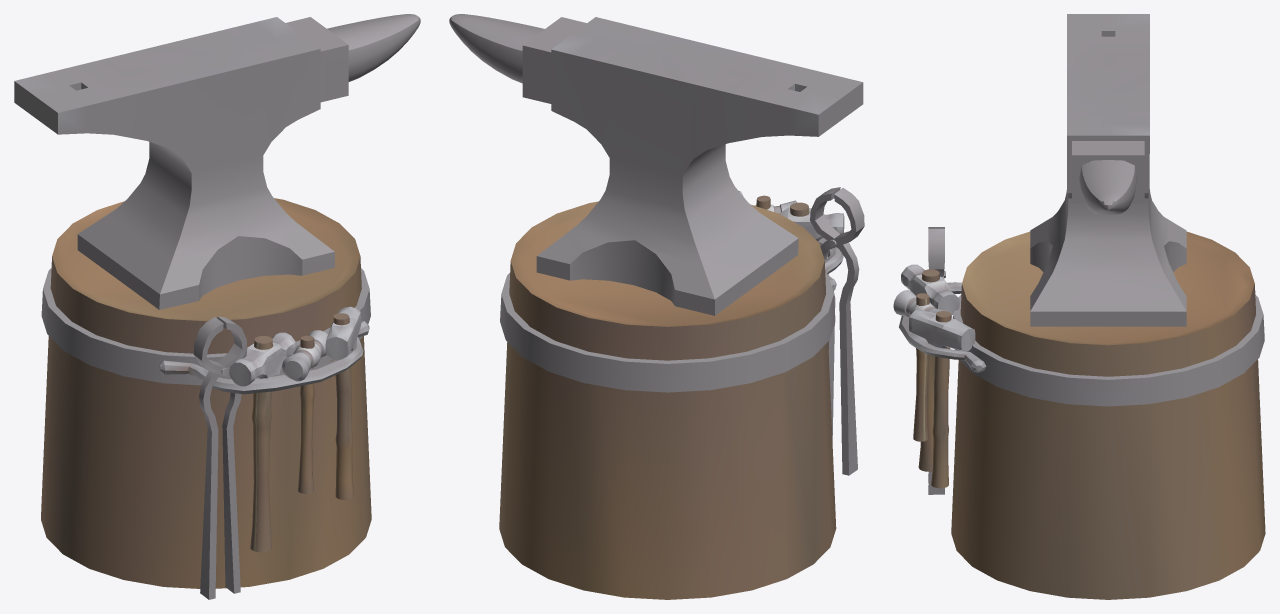
File: Anvil_Log.glb
3 views of the same model, side by side, from view 1: azimuth 30°, elevation 25°; view 2: azimuth 150°, elevation 25°; view 3: azimuth 270°, elevation 25° (orthographic). The views are drawn at different scales.
Visible parts, largest first — view 1: Anvil_Log_c4342c, Anvil_Log_b05247, Anvil_Log_a7ad41; view 2: Anvil_Log_b05247, Anvil_Log_c4342c, Anvil_Log_a7ad41; view 3: Anvil_Log_b05247, Anvil_Log_c4342c, Anvil_Log_a7ad41.
Part boxes in pixels (left/top/right/bottom): Anvil_Log_c4342c: left=14, top=14, right=420, bottom=599; Anvil_Log_b05247: left=41, top=256, right=371, bottom=588; Anvil_Log_a7ad41: left=52, top=198, right=360, bottom=321; Anvil_Log_b05247: left=499, top=191, right=844, bottom=599; Anvil_Log_c4342c: left=449, top=14, right=864, bottom=475; Anvil_Log_a7ad41: left=510, top=201, right=824, bottom=326; Anvil_Log_b05247: left=893, top=264, right=1265, bottom=599; Anvil_Log_c4342c: left=899, top=14, right=1264, bottom=494; Anvil_Log_a7ad41: left=962, top=231, right=1254, bottom=345.
Bounding box in the file's own units: 0.9293 × 1.07 × 0.8214.
